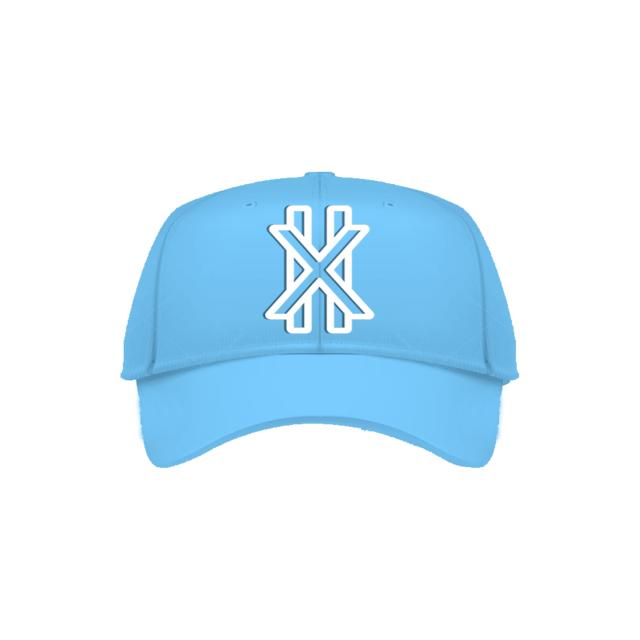mask: (132, 161, 534, 497)
